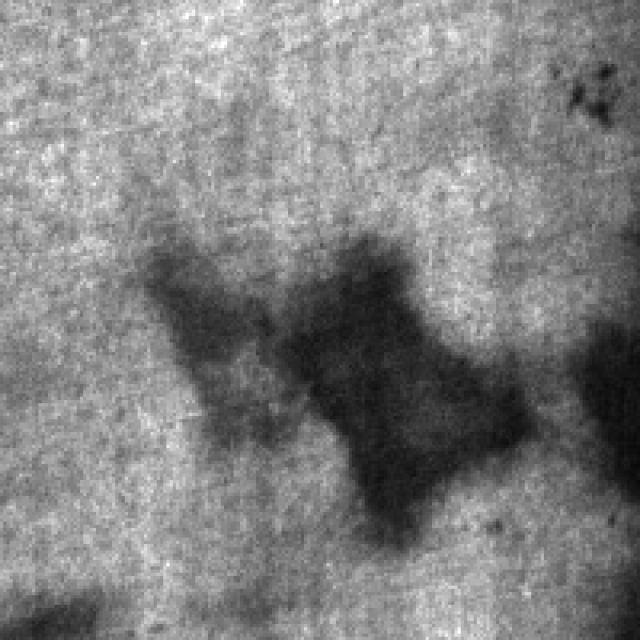patches: (282, 230, 540, 541), (134, 234, 298, 461), (554, 308, 636, 502)
